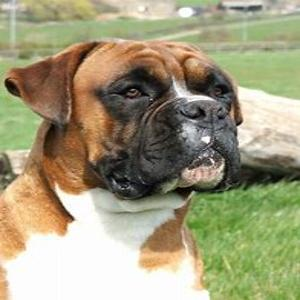dog: (19, 45, 247, 198)
